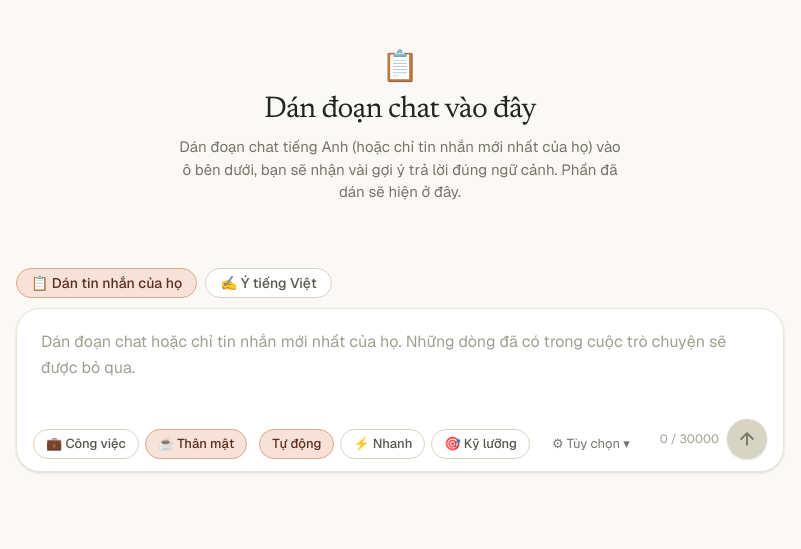
ReplyComposer inside a thread › clears a typed idea when it is sent, and does not claim anything was added
Click the button "✍️ Ý tiếng Việt".
click(268, 282)  # box [205,268,332,298]
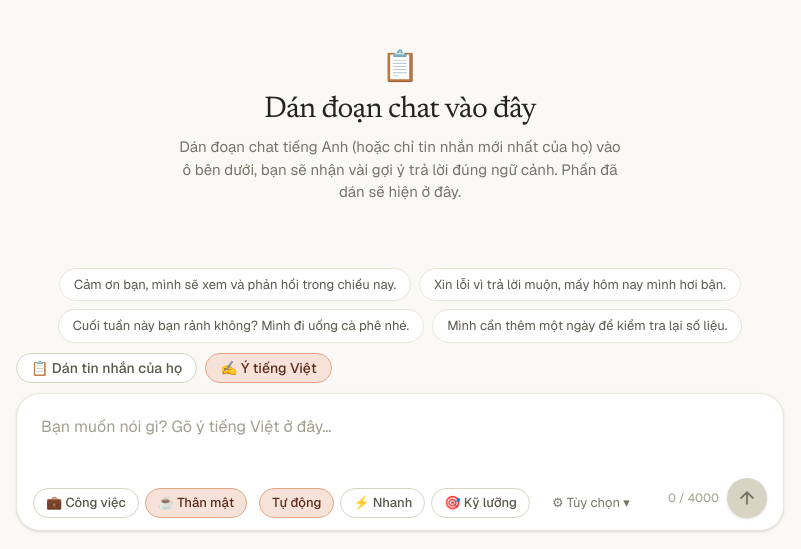
Type "Mình đồng ý." into the text box.
click(400, 438); type("Mình đồng ý.")  # box [29,406,771,470]
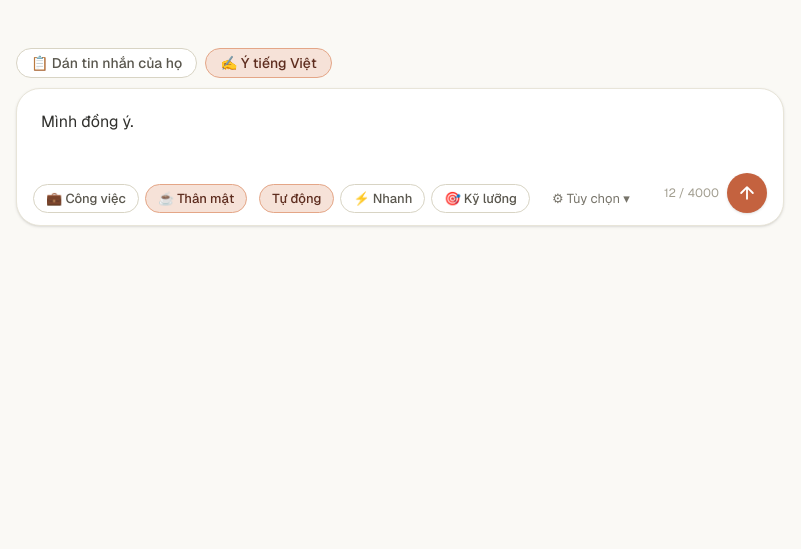
Click the button named "Viết bản nháp".
click(747, 193)  # box [727,173,767,213]
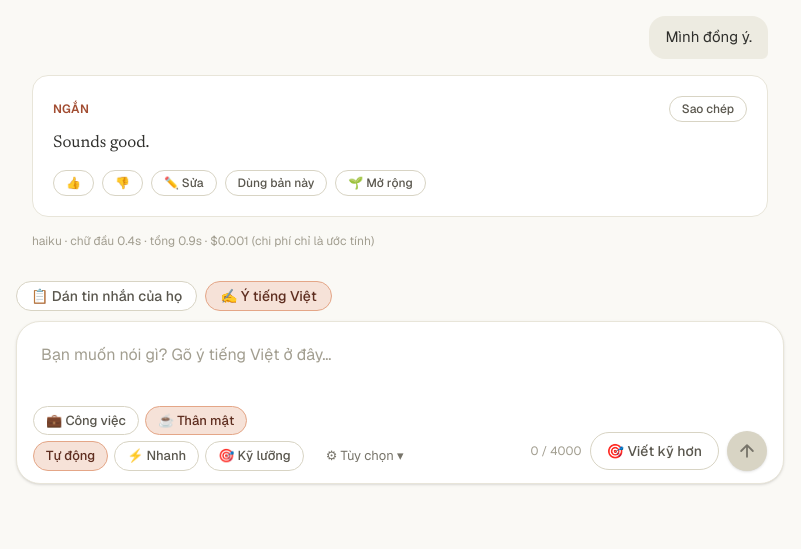
Expected: the text "Sounds good." is shown, [53,134,150,152]
Expected: the text box is empty, [29,334,771,398]
Expected: the text "Mình đồng ý." is shown, [665,26,752,48]
